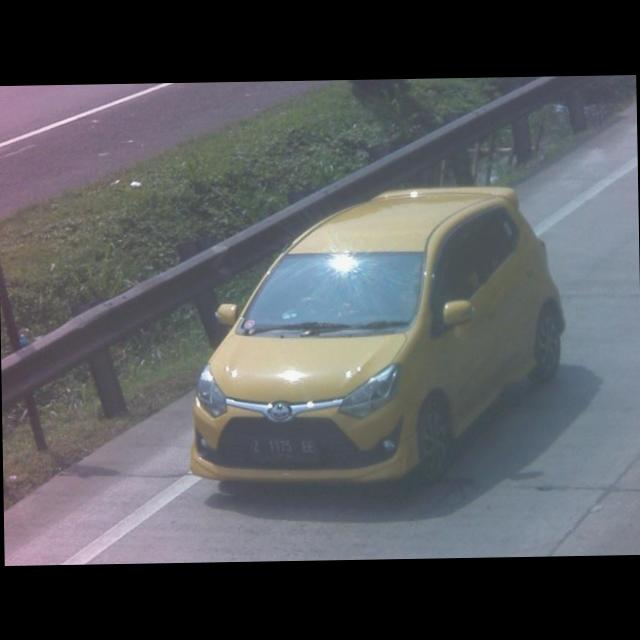plate: (247, 435, 316, 462)
